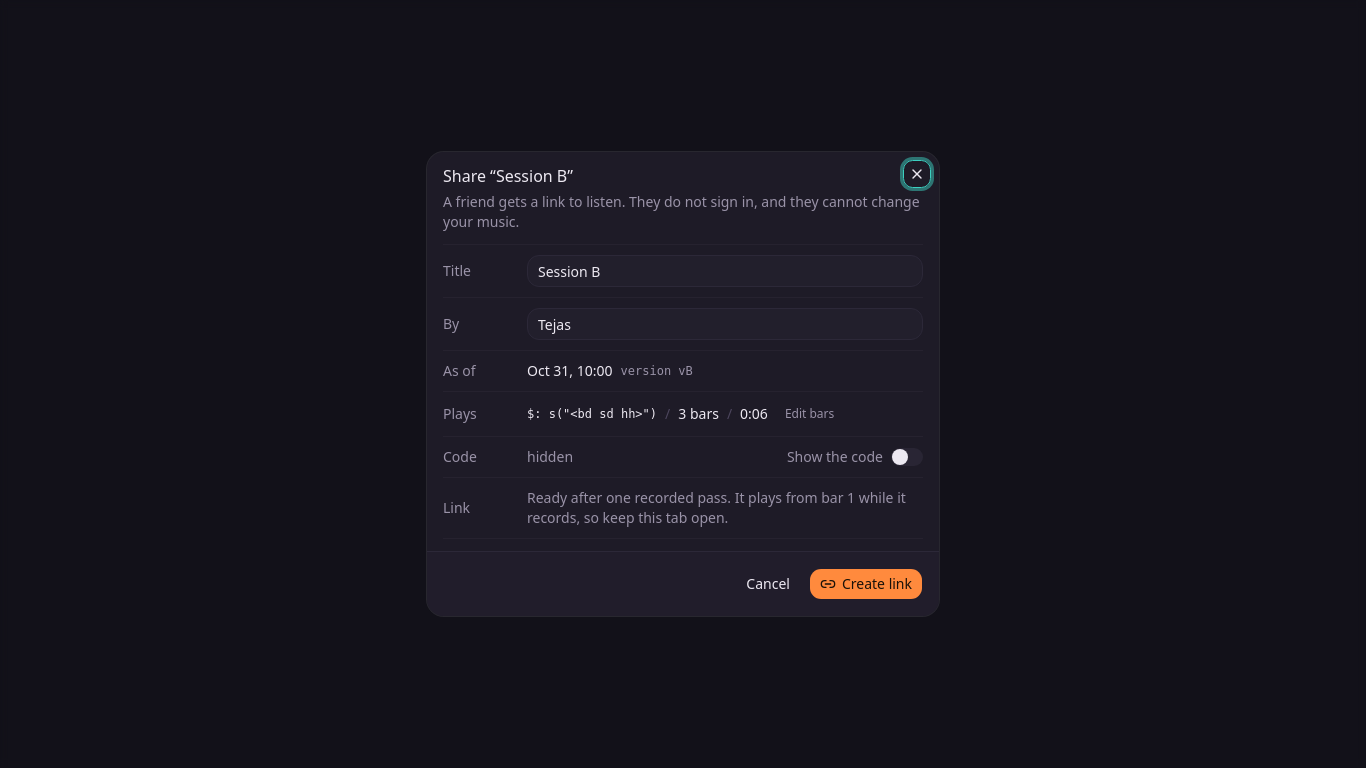
Test: ShareDialog › refuses, and starts no link, when the shown code does not evaluate
The width and height of the screenshot is (1366, 768).
Click the button "Create link". click: (866, 584)
box: [809, 568, 923, 600]
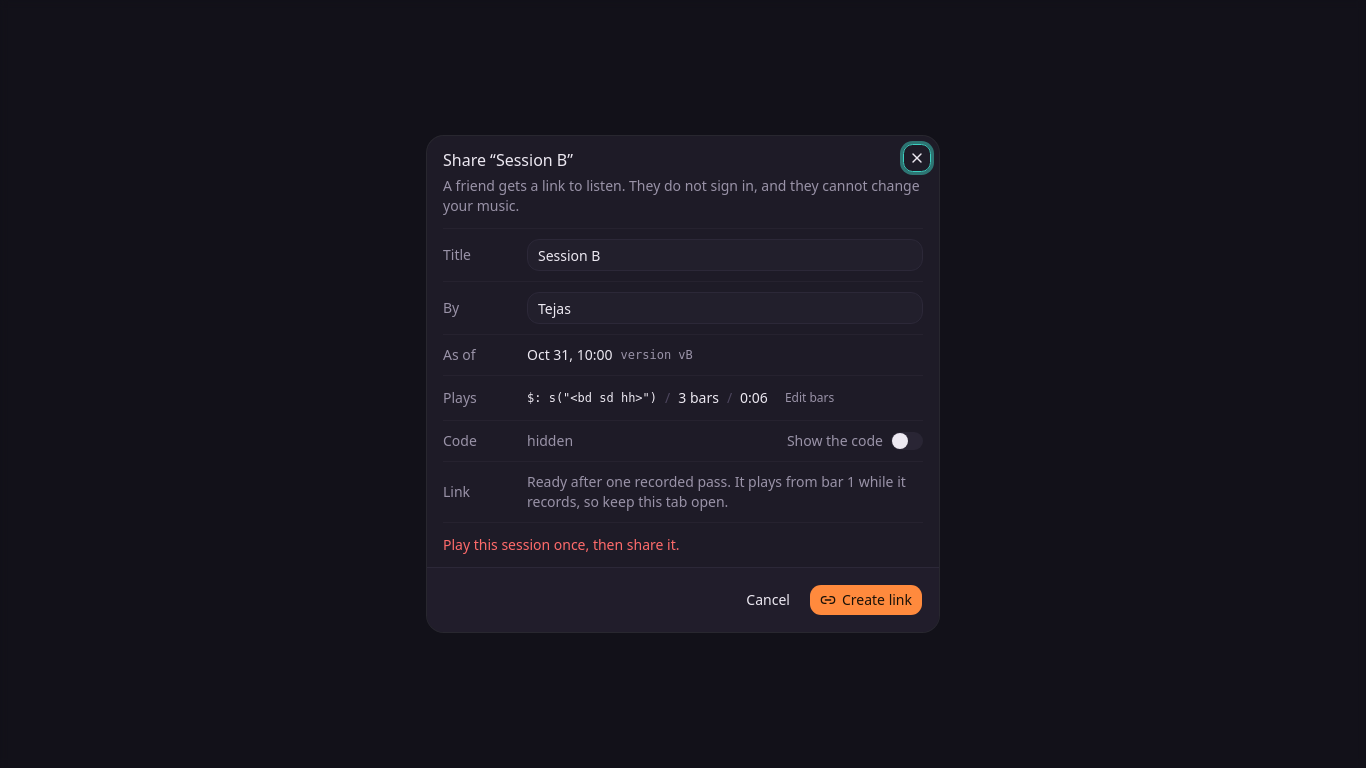
Expected: the message reads "Play this session once, then share it.", [443, 535, 680, 554]
